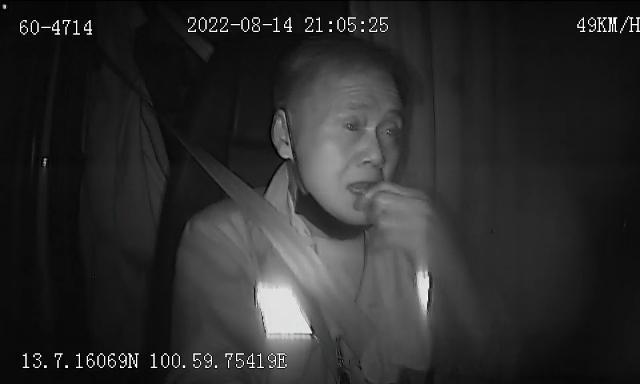SafeDriving: (336, 108, 372, 138), (376, 112, 404, 142)
Seatbelt: (194, 136, 420, 384)
